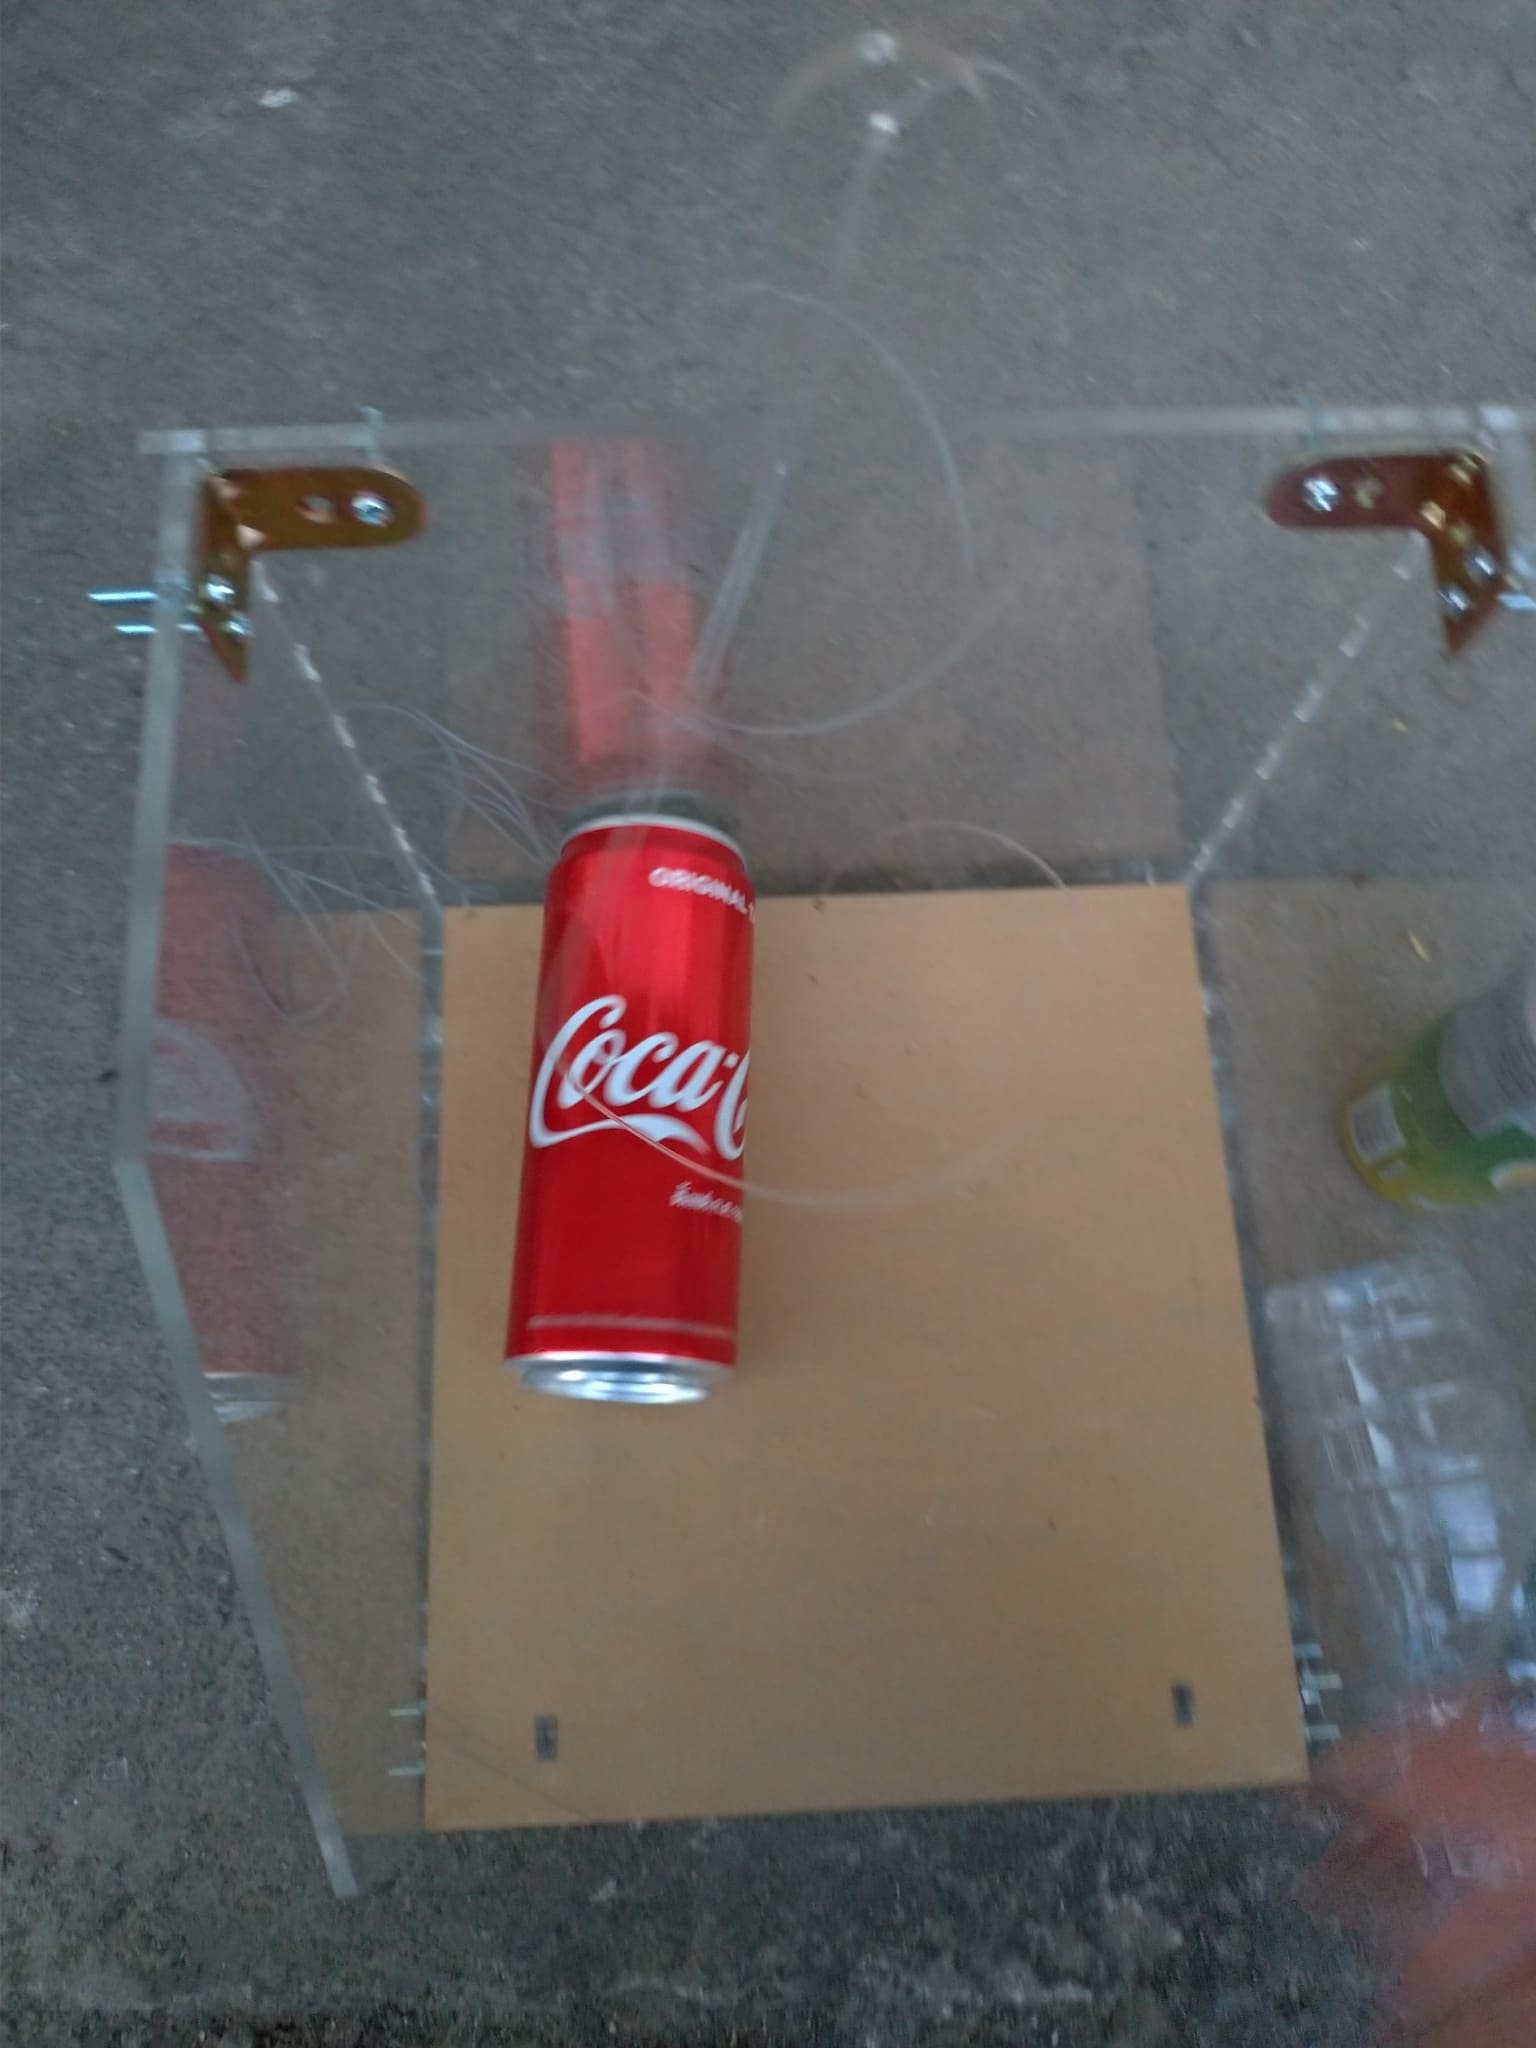AlCan: (497, 814, 763, 1411), (1333, 948, 1536, 1214)
PlasticBottle: (1260, 1248, 1536, 1879)
